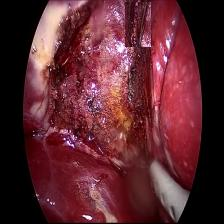Bipolar: (125, 2, 151, 47)
Irrigator: (148, 161, 190, 224)
